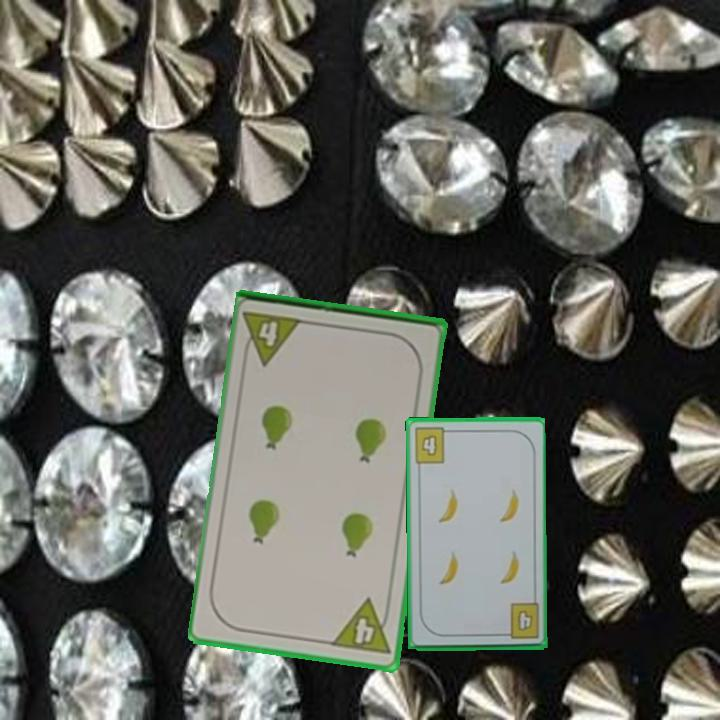4b: (410, 424, 454, 466), (498, 600, 542, 642)
4p: (328, 595, 395, 659), (239, 307, 307, 368)
